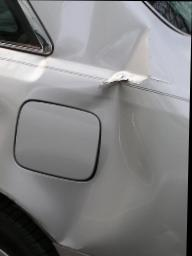Fender: (35, 1, 190, 256)
